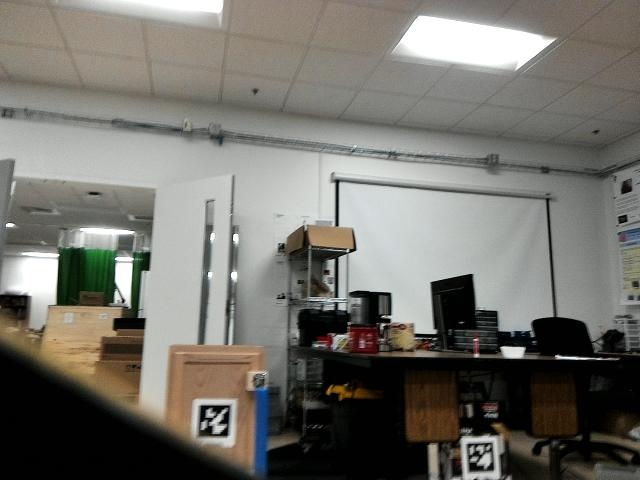noodle_handle: (250, 382, 272, 478)
